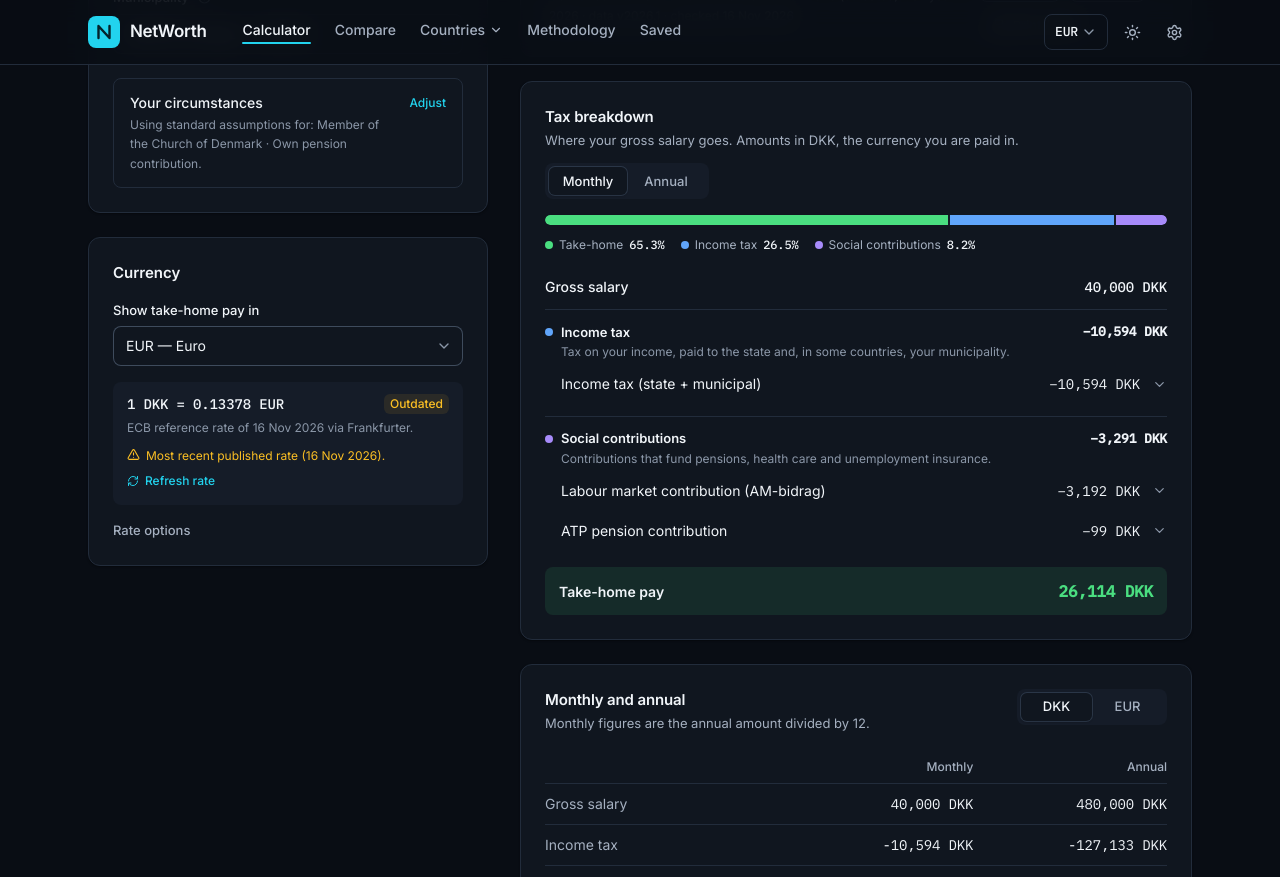
Test: calculator › expands a deduction to explain how it was calculated
The image size is (1280, 877).
(page scrolled)
Click the button "Labour market contribution (AM-bidrag) −3,192 DKK": (693, 490) [561,471,1167,511]
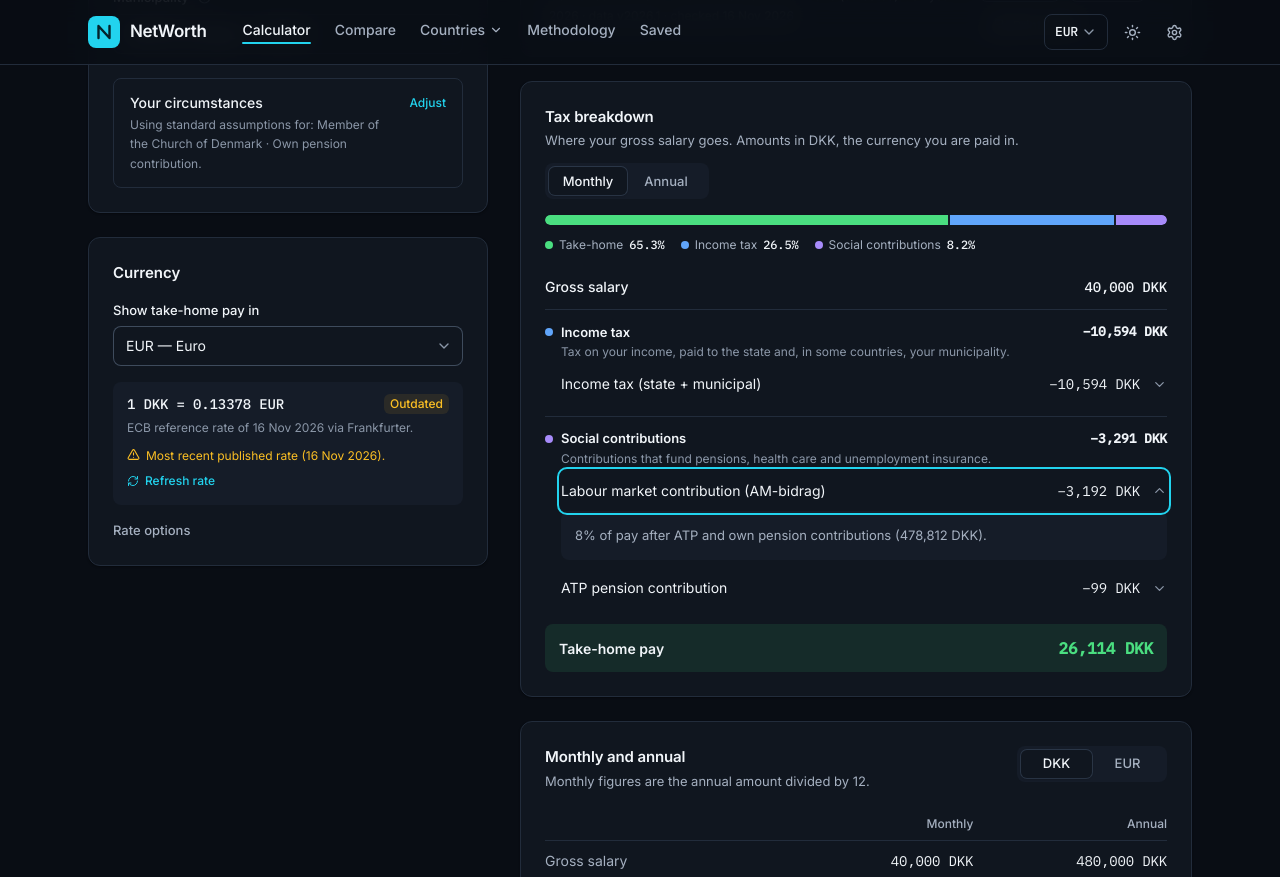
Now the button "Labour market contribution (AM-bidrag) −3,192 DKK" is expanded, box [561,471,1167,511]
